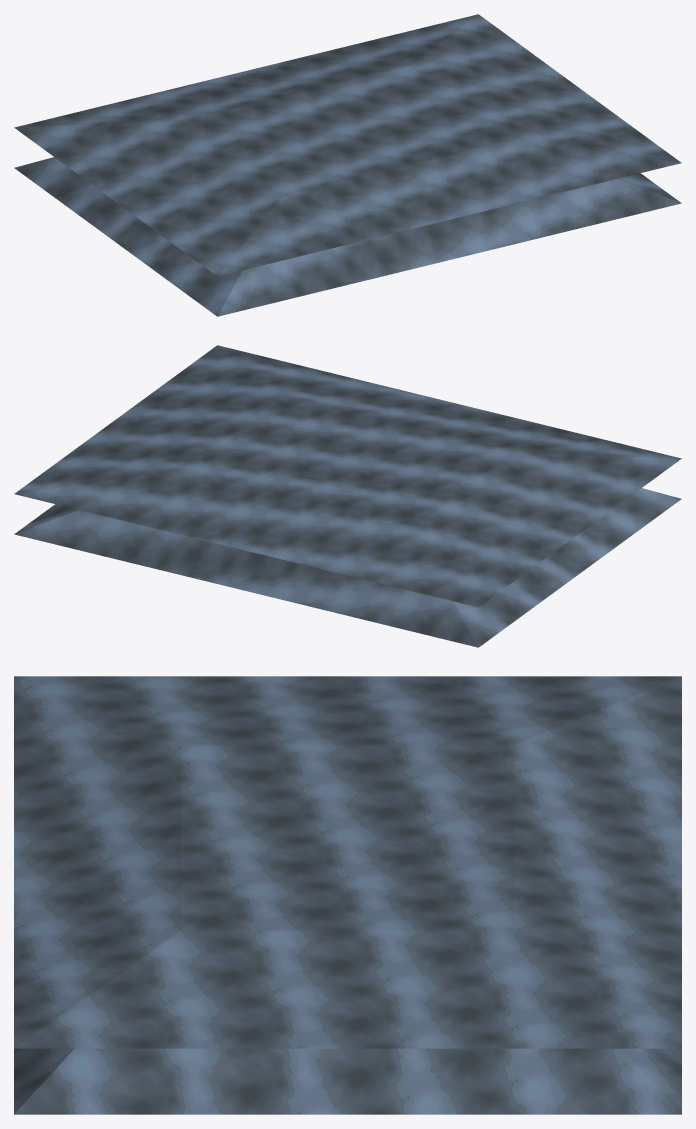
Rendered from subterranean.fbx.
The picture shows the model from 3 angles, top to bottom: view 1: azimuth 30°, elevation 25°; view 2: azimuth 150°, elevation 25°; view 3: azimuth 270°, elevation 25°; orthographic projection. The views are drawn at different scales.
Visible parts, largest first — view 1: mesh38, mesh81; view 2: mesh38, mesh81; view 3: mesh38, mesh81.
Part boxes in pixels (x1=…): mesh38: x1=14, y1=14, x2=681, y2=276; mesh81: x1=14, y1=157, x2=681, y2=316; mesh38: x1=14, y1=345, x2=681, y2=607; mesh81: x1=14, y1=488, x2=681, y2=647; mesh38: x1=14, y1=676, x2=681, y2=1048; mesh81: x1=14, y1=1048, x2=681, y2=1114.
Size of the model in its own units: 1301 by 148 by 987.
